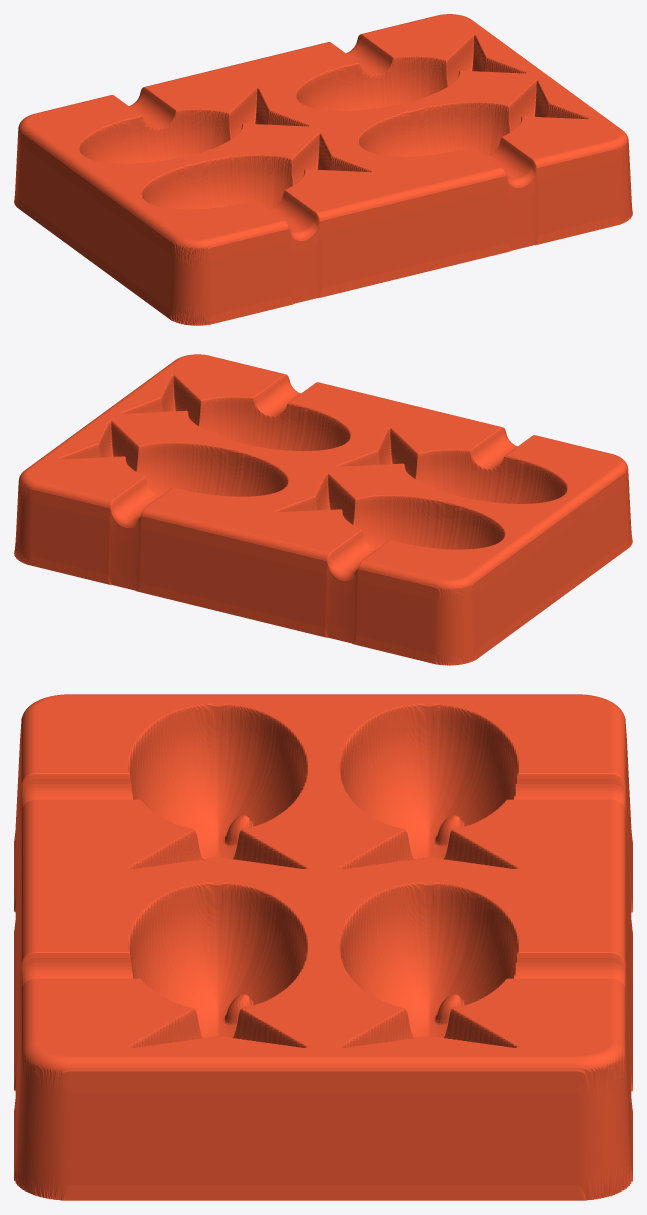
Rendered from mold.glb.
3 views of the same model, one above another, from view 1: azimuth 30°, elevation 25°; view 2: azimuth 150°, elevation 25°; view 3: azimuth 270°, elevation 25° (orthographic). The views are drawn at different scales.
Visible parts, largest first — view 1: geometry_0; view 2: geometry_0; view 3: geometry_0.
Boxes of the visible parts, bbox=[...] form: geometry_0: bbox=[14, 14, 632, 325]; geometry_0: bbox=[14, 354, 632, 665]; geometry_0: bbox=[14, 694, 632, 1200].
Bounding box in the file's own units: 0.1468 × 0.0245 × 0.1014.
